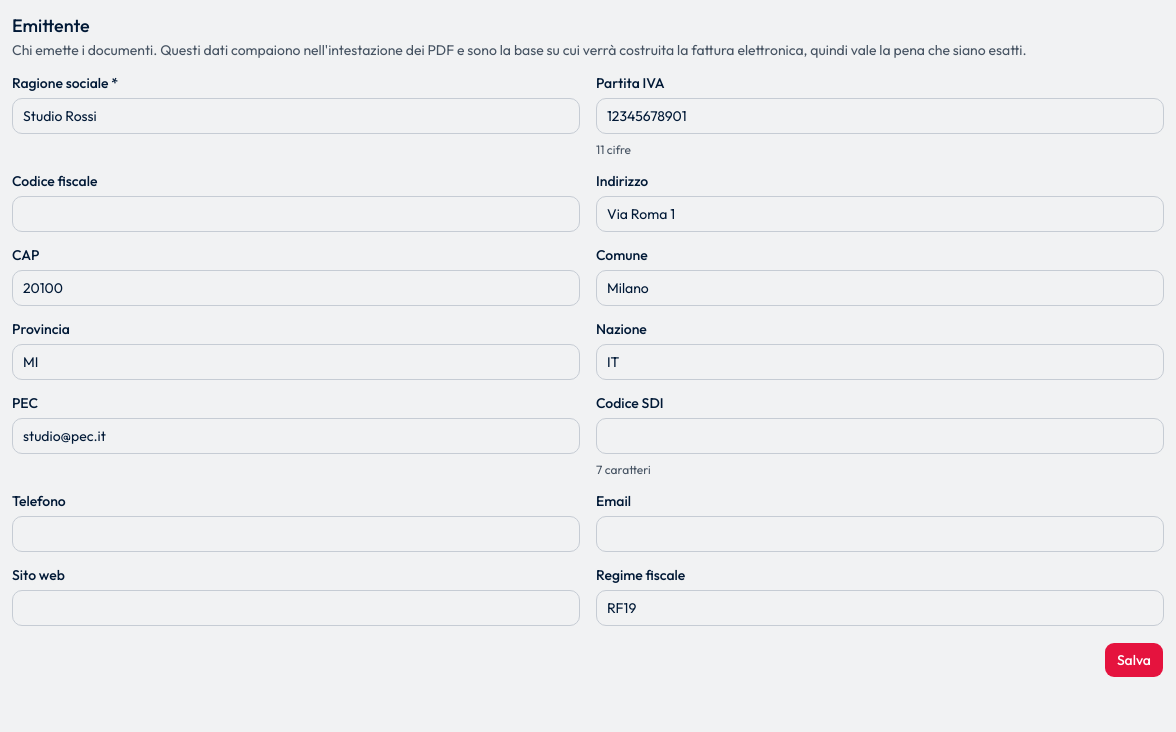
Test case: EmitterPanel › attaches the server message to the field it names
Expected: the field labelled "Partita IVA" holds "12345678901", [596,98,1164,134]
Click the button "Salva": (1134, 660) [1104,642,1164,678]
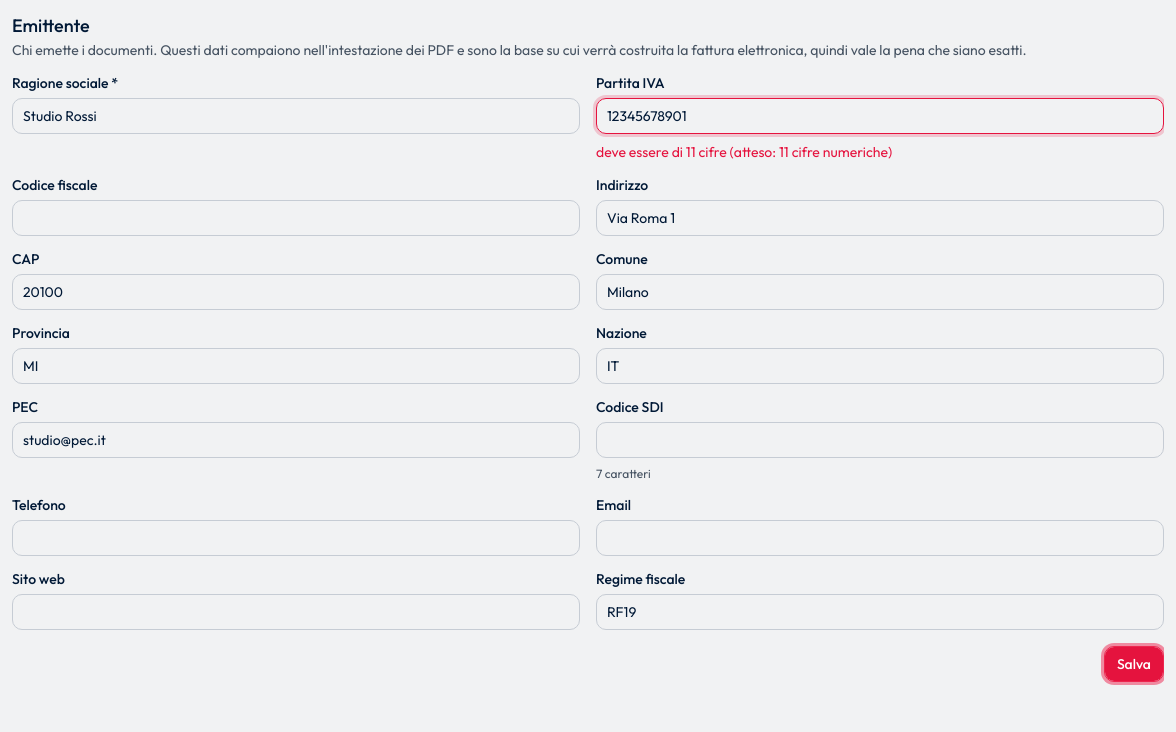
Result: the text "deve essere di 11 cifre (atteso: 11 cifre numeriche)" is shown at [596,143,892,161]
